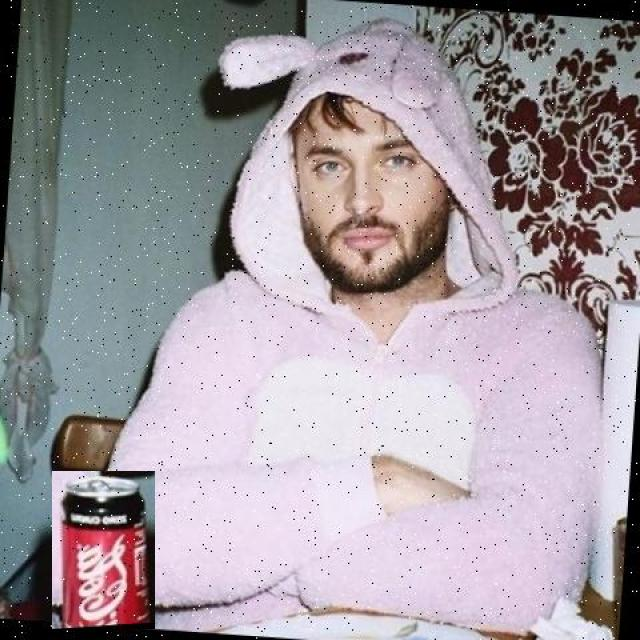coca-cola: (52, 471, 155, 629)
